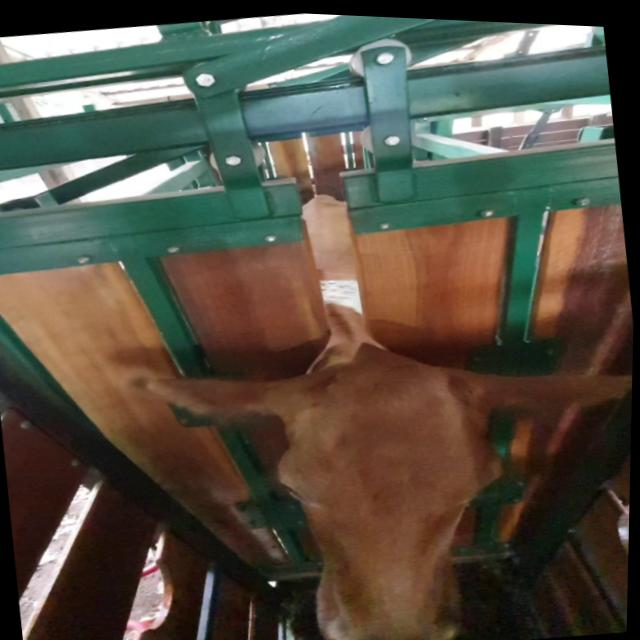cowFace: (267, 335, 529, 640)
